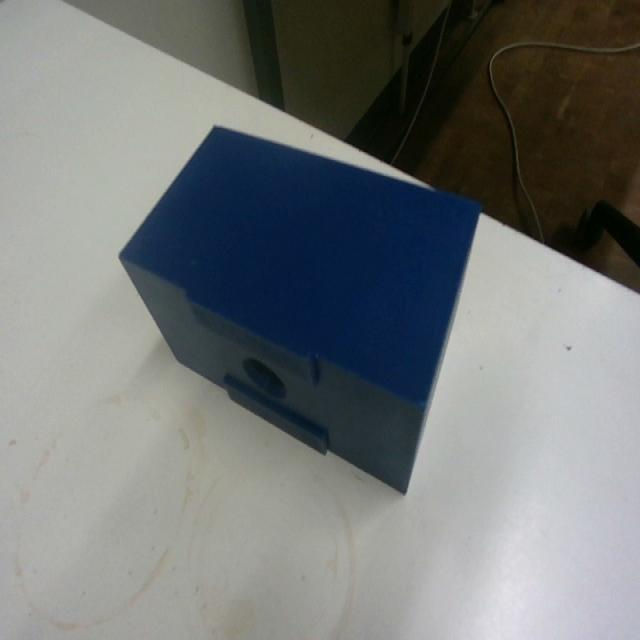Blue Cuboid: (116, 120, 483, 496)
